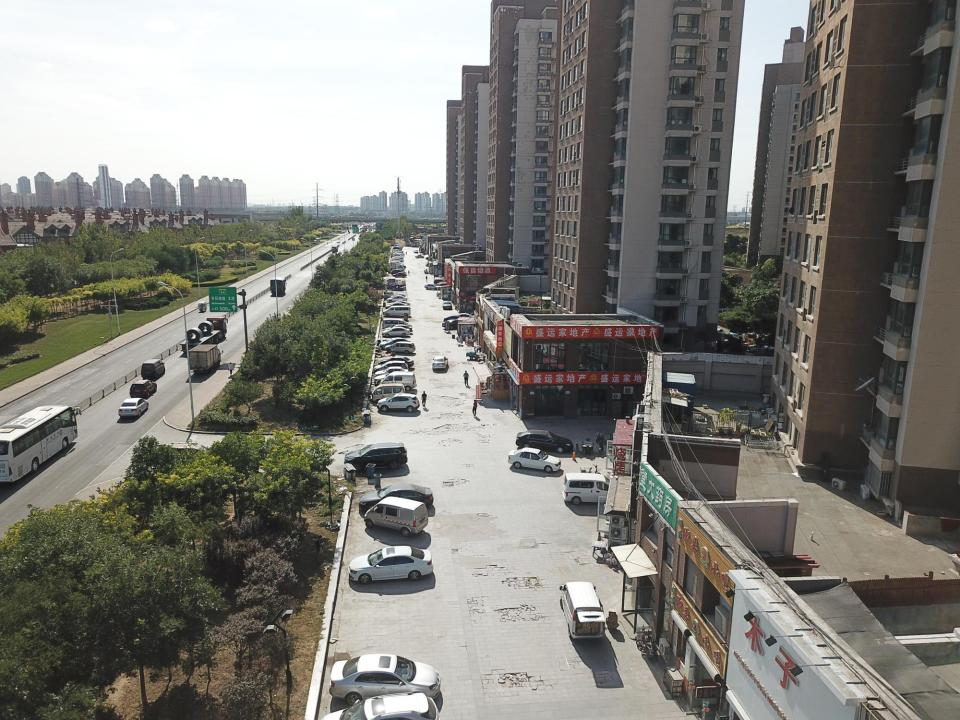bus: (0, 405, 82, 482)
car: (329, 654, 441, 705), (320, 692, 440, 720), (348, 545, 434, 584), (358, 483, 434, 512), (344, 442, 408, 471), (515, 430, 574, 454), (508, 446, 560, 472), (376, 394, 420, 412), (118, 398, 149, 416), (373, 360, 408, 374), (130, 379, 157, 397), (374, 371, 410, 384), (384, 341, 416, 354), (378, 356, 414, 367), (374, 366, 408, 377), (380, 337, 410, 348), (382, 326, 410, 336), (432, 356, 448, 370), (384, 324, 412, 332), (385, 302, 407, 309), (386, 295, 407, 302), (387, 300, 410, 306), (424, 284, 441, 290), (392, 272, 407, 278), (442, 301, 452, 309), (415, 255, 424, 258), (413, 250, 418, 253)
truck: (180, 316, 228, 353), (188, 344, 223, 374), (270, 277, 287, 295)
van: (363, 496, 429, 538), (560, 581, 606, 640), (562, 473, 611, 504), (380, 372, 417, 390), (371, 384, 405, 401), (141, 359, 165, 379), (382, 305, 411, 317), (382, 318, 412, 329)
